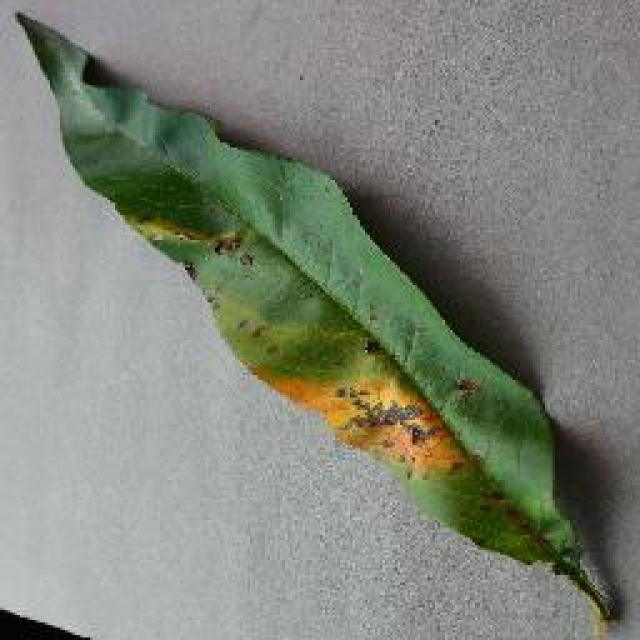Peach_Bacterial_Spot: (170, 162, 518, 528)
